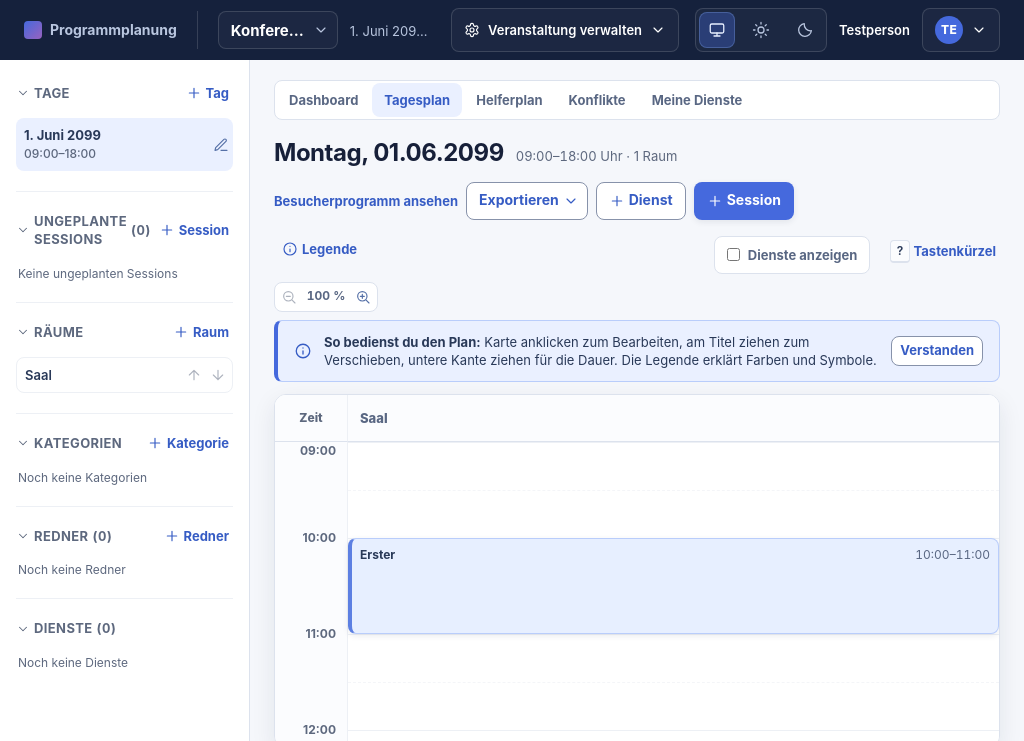
Test: asks before another slot replaces unsaved input and keeps it on cancel
The width and height of the screenshot is (1024, 741).
Step 1. Click the button with aria-label "Erster bearbeiten" → (378, 555), box [360, 547, 395, 563]
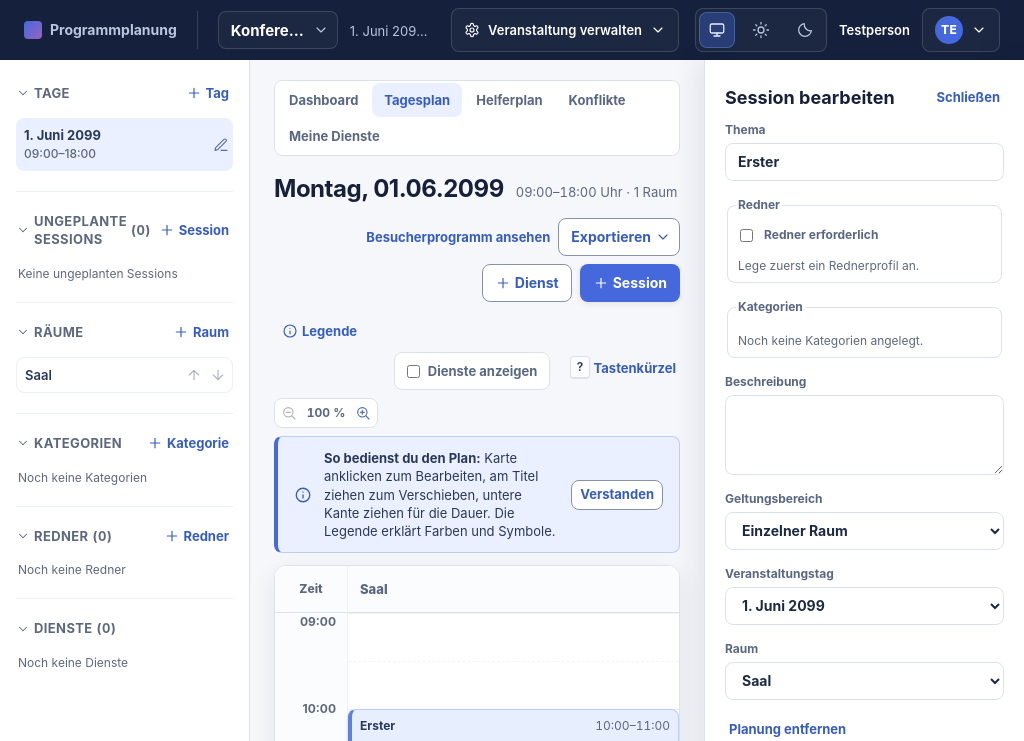
Expected: the text "Ungespeichert" is not shown
Step 2. Type "Halb fertig" into the text box labelled "Beschreibung" → (864, 435), box [725, 395, 1004, 475]
(page scrolled)
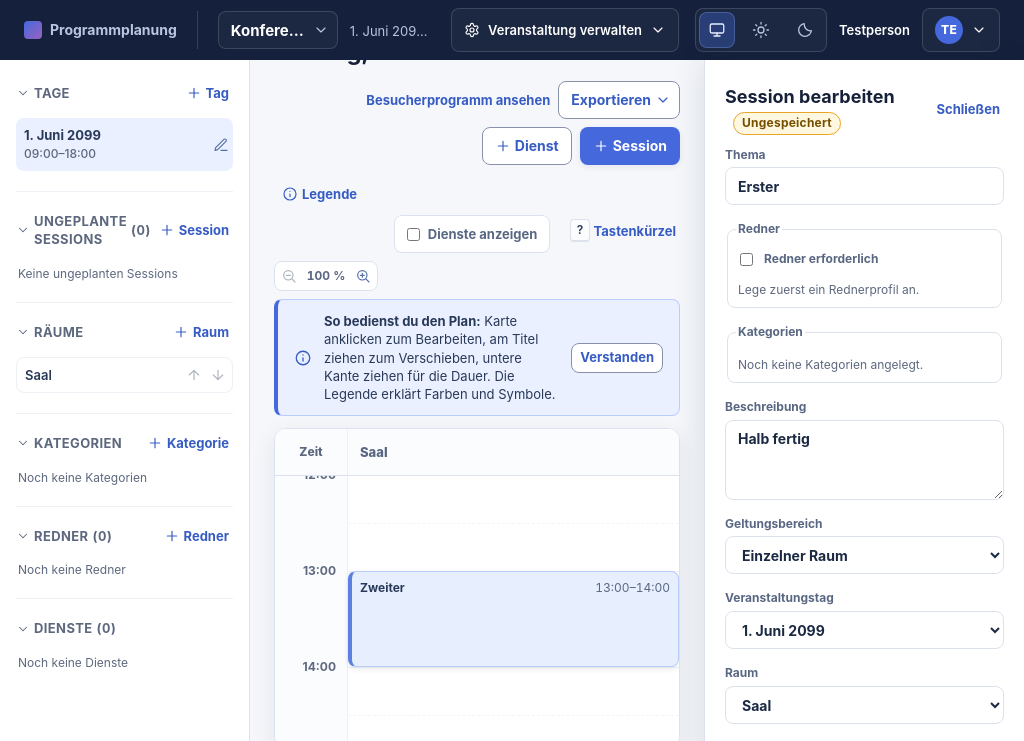
Now the text "Ungespeichert" is shown, box [733, 112, 841, 135]
Step 3. Click the button with aria-label "Zweiter bearbeiten" → (382, 588), box [360, 580, 405, 596]
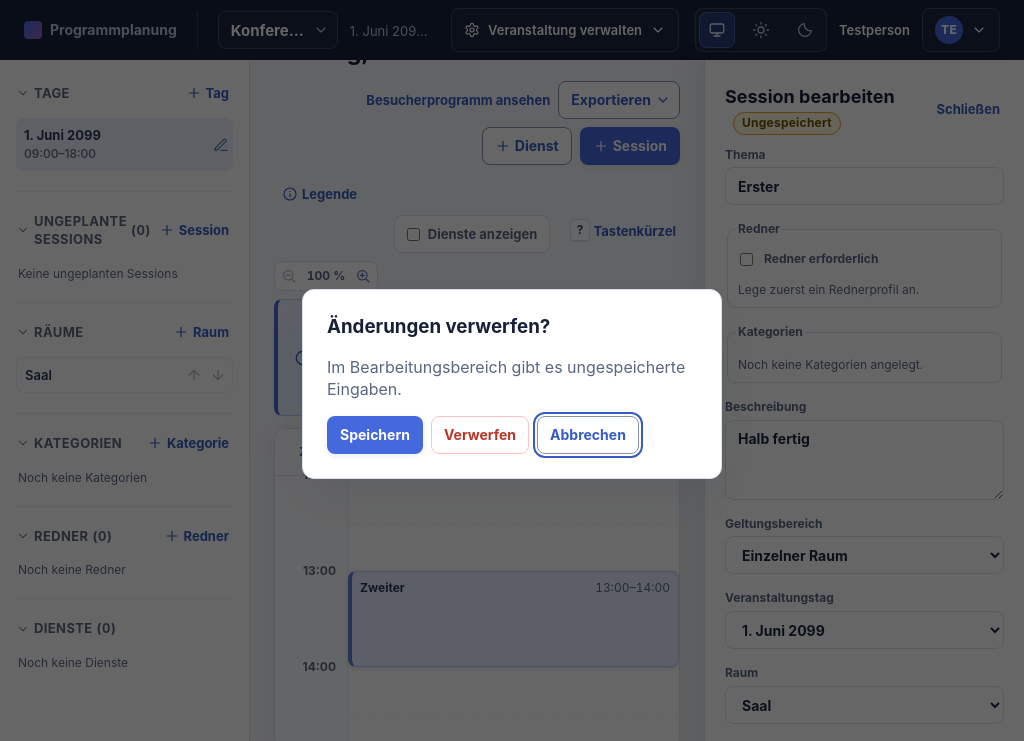
Step 4. Click the button "Abbrechen" → (588, 436), box [537, 416, 639, 454]
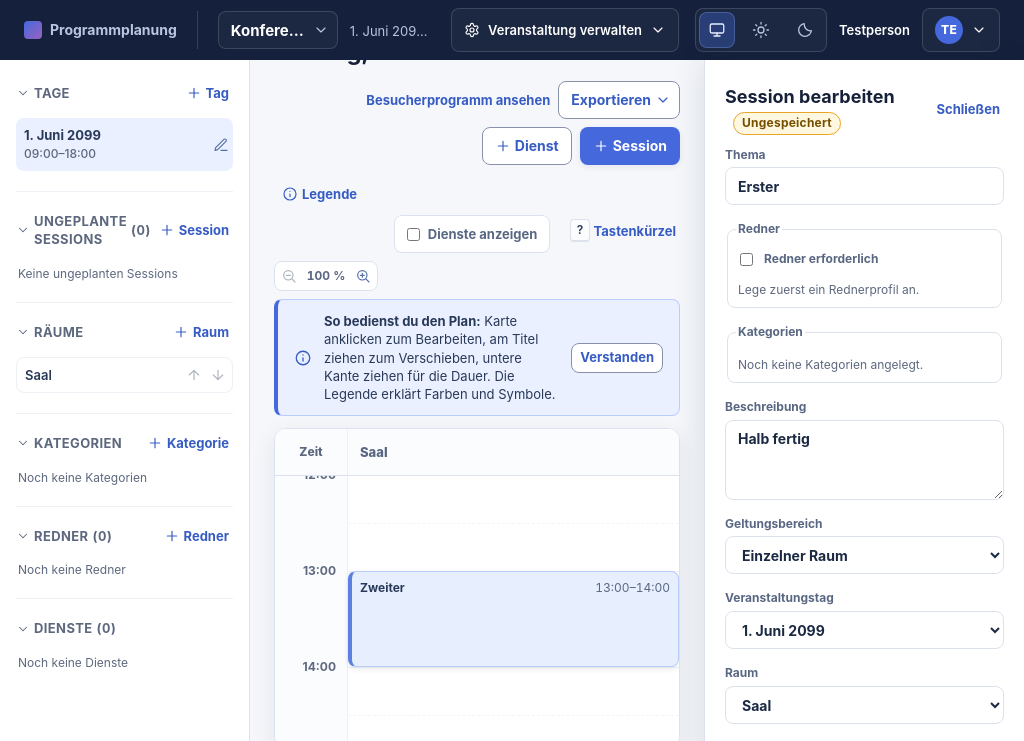
Now the field labelled "Thema" holds "Erster", box [725, 168, 1004, 206]
Now the dialog is gone
